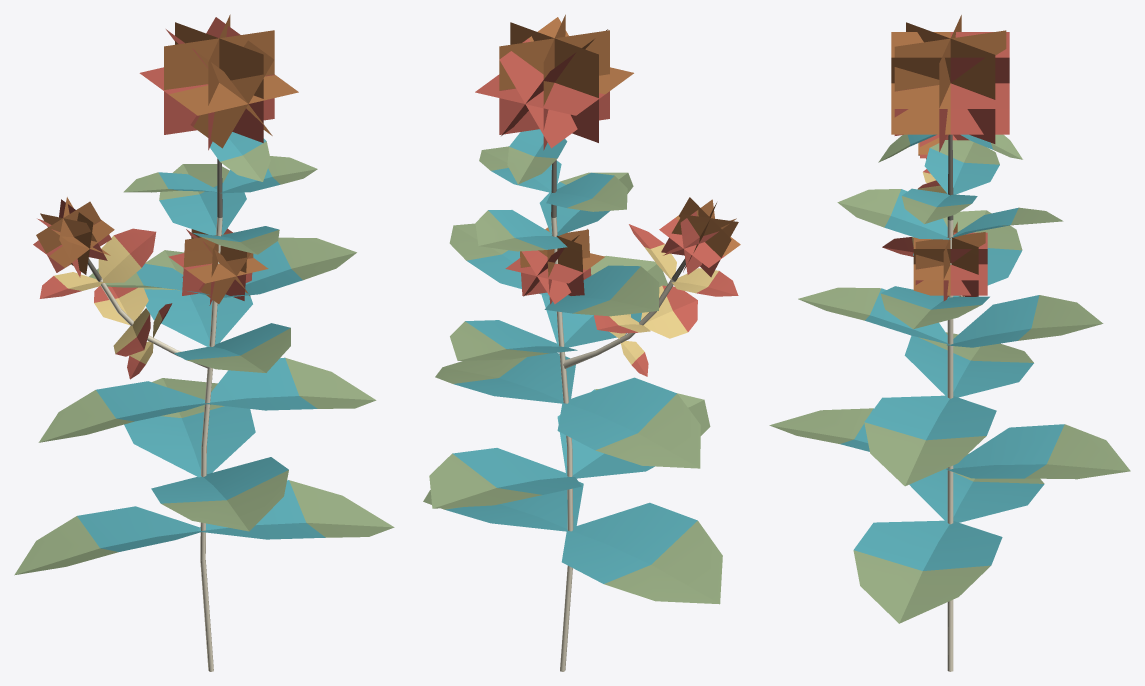
Rendered from itch_assetquest_pond_water_mint_2.glb.
3 renders of one model, left to right at view 1: azimuth 30°, elevation 25°; view 2: azimuth 150°, elevation 25°; view 3: azimuth 270°, elevation 25°, orthographic.
Visible parts, largest first — view 1: Watermint_2; view 2: Watermint_2; view 3: Watermint_2.
Part boxes in pixels (x1,y1,x2,y2): Watermint_2: (14,14,394,671); Watermint_2: (423,14,740,671); Watermint_2: (769,15,1130,671).
Bounding box in the file's own units: 0.96 × 1.73 × 0.8896.
